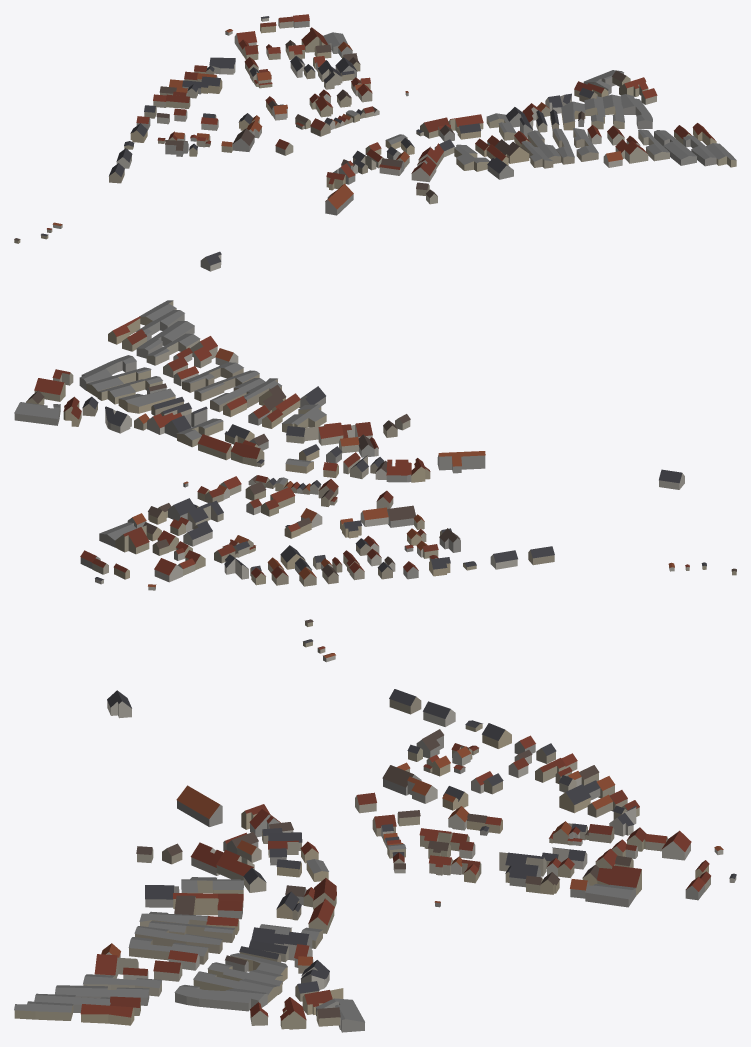
3 renders of one model, top to bottom at view 1: azimuth 30°, elevation 25°; view 2: azimuth 150°, elevation 25°; view 3: azimuth 270°, elevation 25°, orthographic. The views are drawn at different scales.
Visible parts, largest first — view 1: buildings; view 2: buildings; view 3: buildings.
Boxes of the visible parts, bbox=[...] form: buildings: bbox=[14, 14, 736, 271]; buildings: bbox=[14, 300, 736, 590]; buildings: bbox=[14, 619, 736, 1032].
Size of the model in its own units: 616 by 25.31 by 457.
